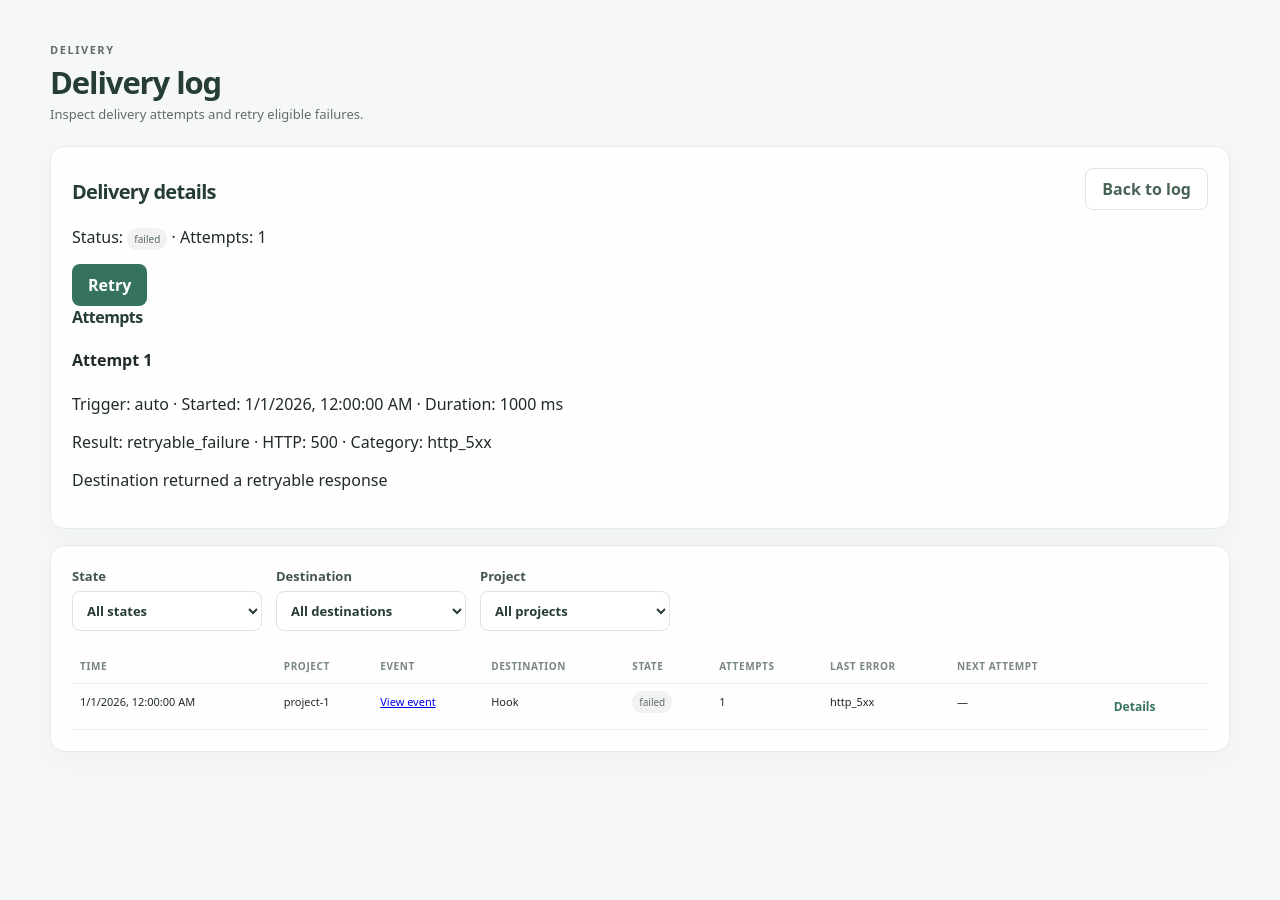
Test: Delivery log UI › shows sanitized attempts and retries an enabled failed delivery accessibly
Click the button "Retry": (110, 285) [72,264,147,306]
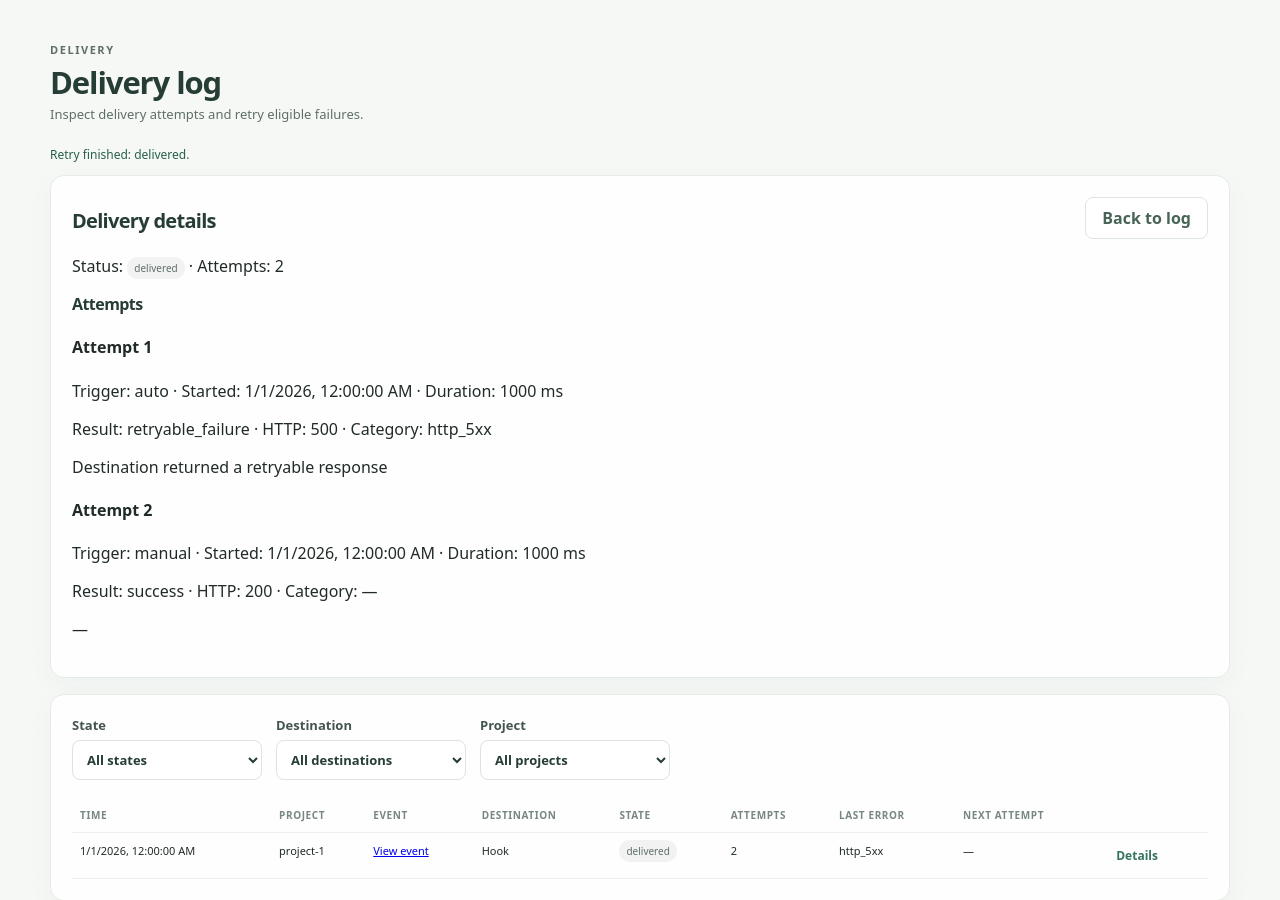
Check: the text "Retry finished: delivered." is shown, box [50,146,189,163]
Check: the text "Trigger: manual" is shown, box [72,542,586,564]
Check: the text "Result: success" is shown, box [72,580,378,602]
